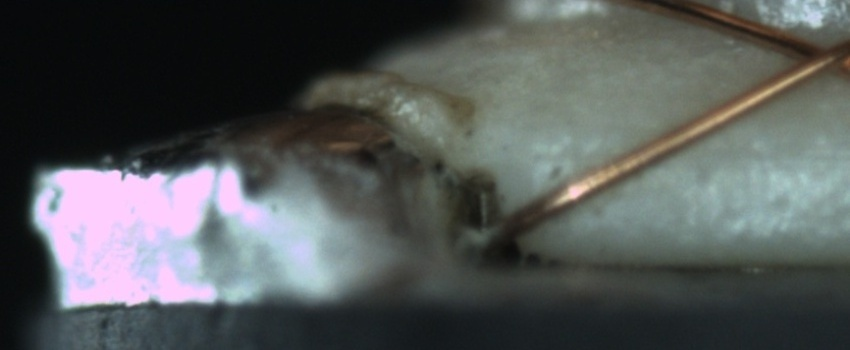CL: (772, 26, 848, 88)
DL: (677, 122, 850, 187)
